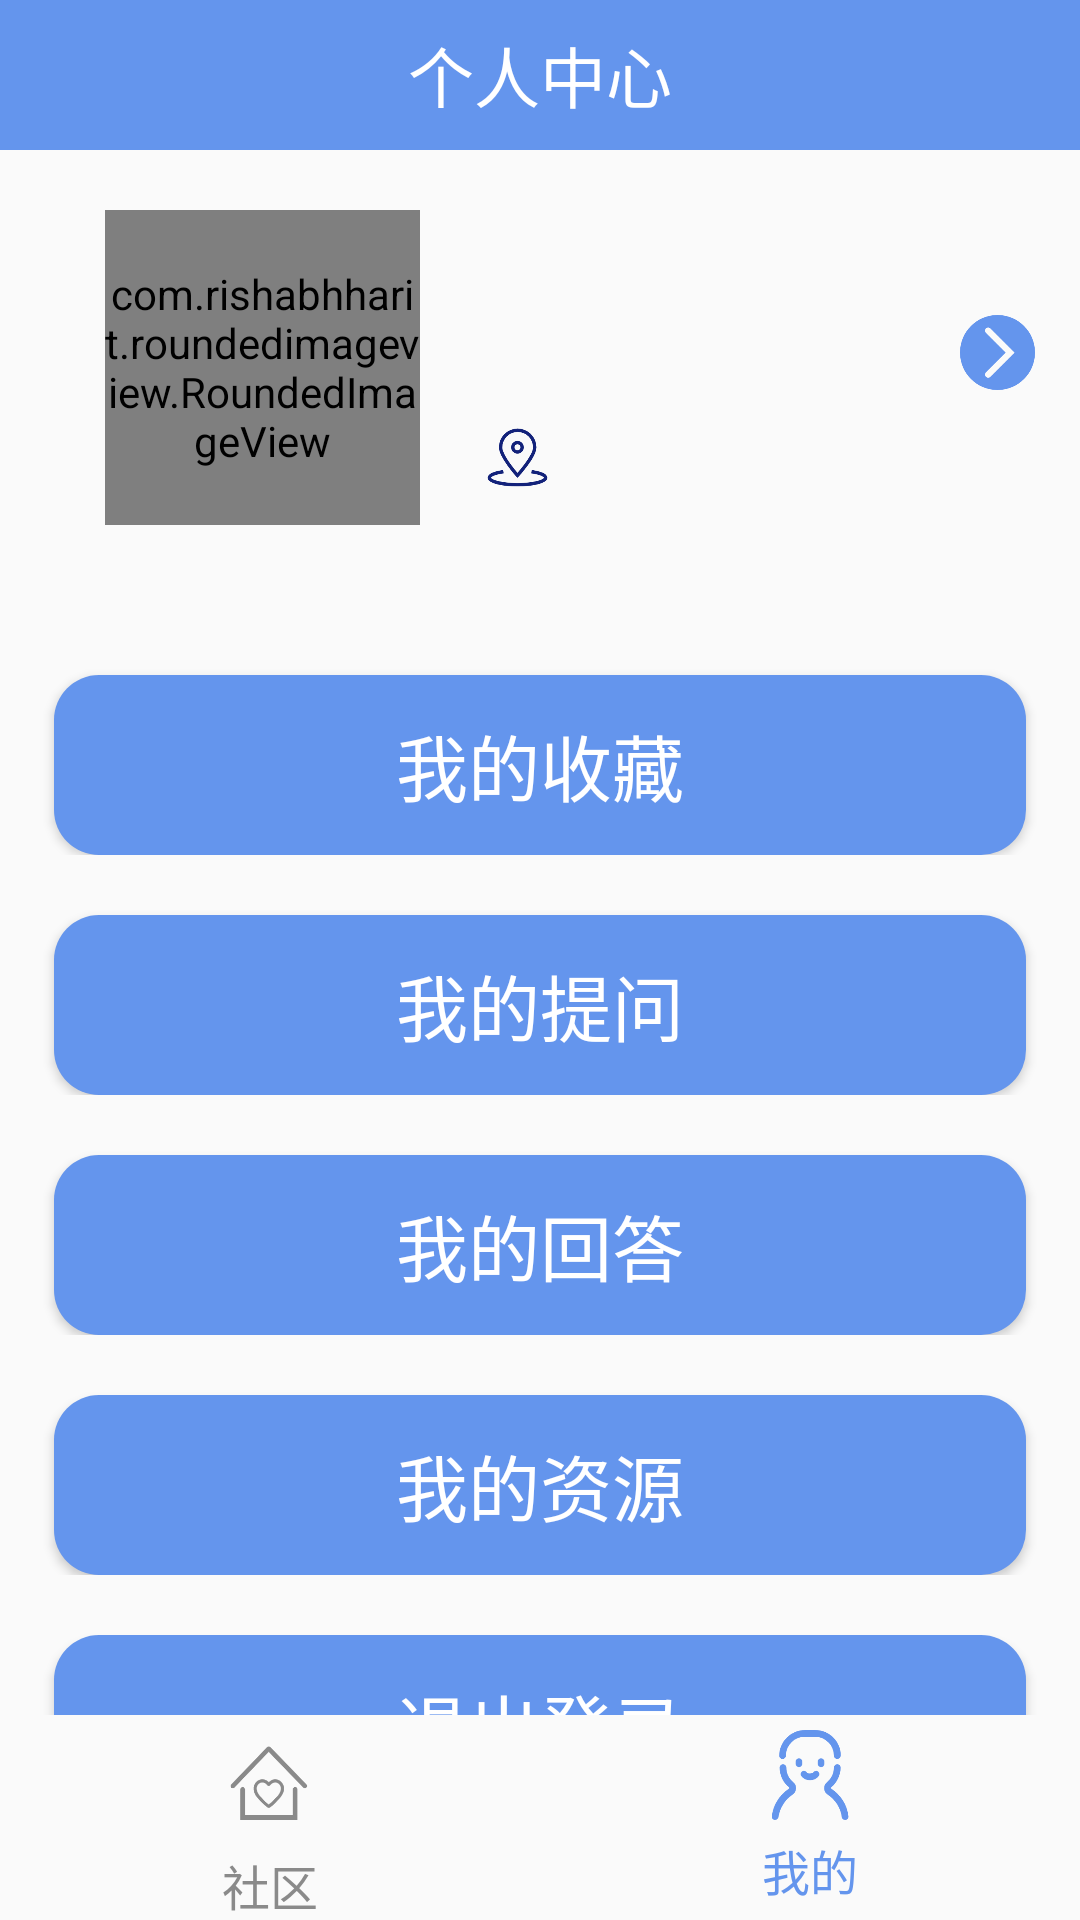

Icons on this 1080px x 1920px Android screen, each with the point to tap as point (x, y):
address: point (517, 457)
community: point (269, 1783)
enter: point (997, 352)
